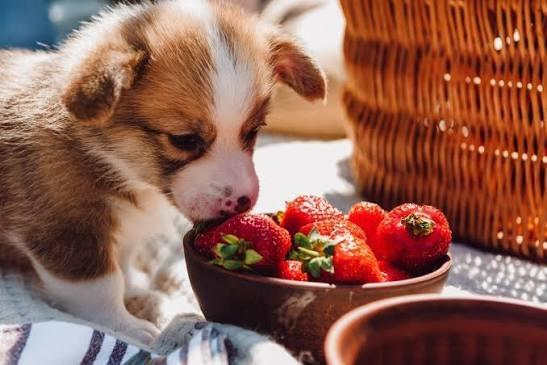puppy-dog: (0, 0, 329, 344)
